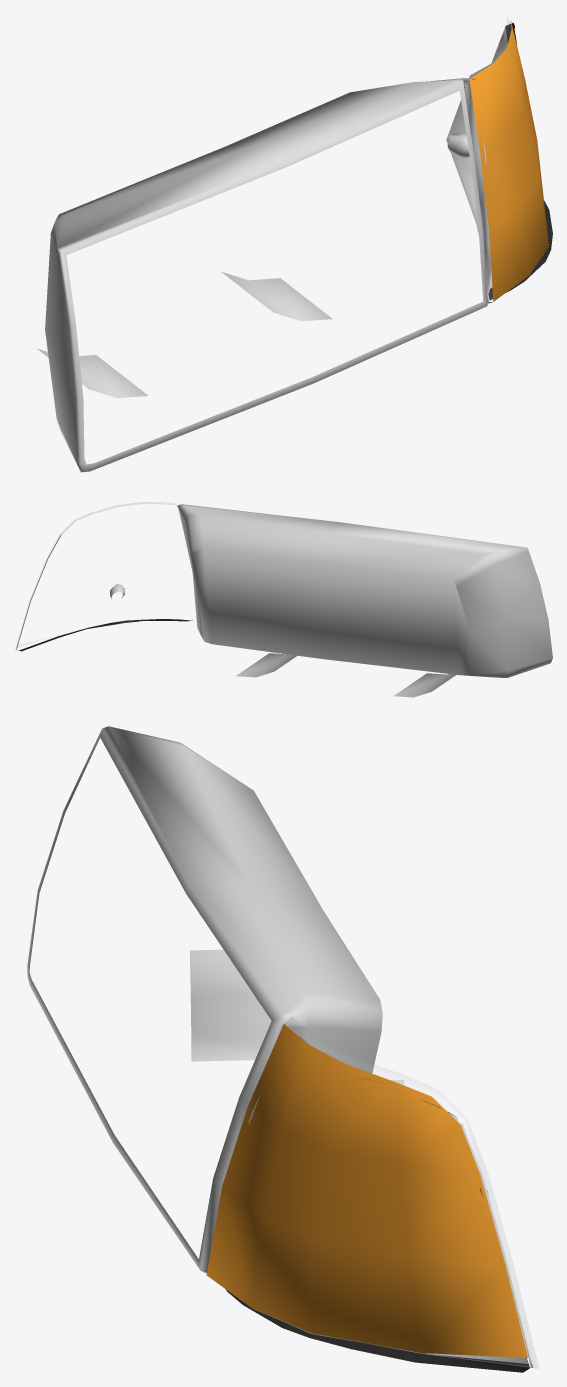
The model's file is headlight_L.glb.
3 renders of one model, top to bottom at view 1: azimuth 30°, elevation 25°; view 2: azimuth 150°, elevation 25°; view 3: azimuth 270°, elevation 25°, orthographic. The views are drawn at different scales.
Parts seen in each view (by area): view 1: headlight_L; view 2: headlight_L; view 3: headlight_L.
Boxes of the visible parts, <box> form: headlight_L: <box>37,17,552,472</box>; headlight_L: <box>15,502,552,697</box>; headlight_L: <box>27,726,538,1372</box>.
Size of the model in its own units: 0.4577 by 0.1424 by 0.2462.
